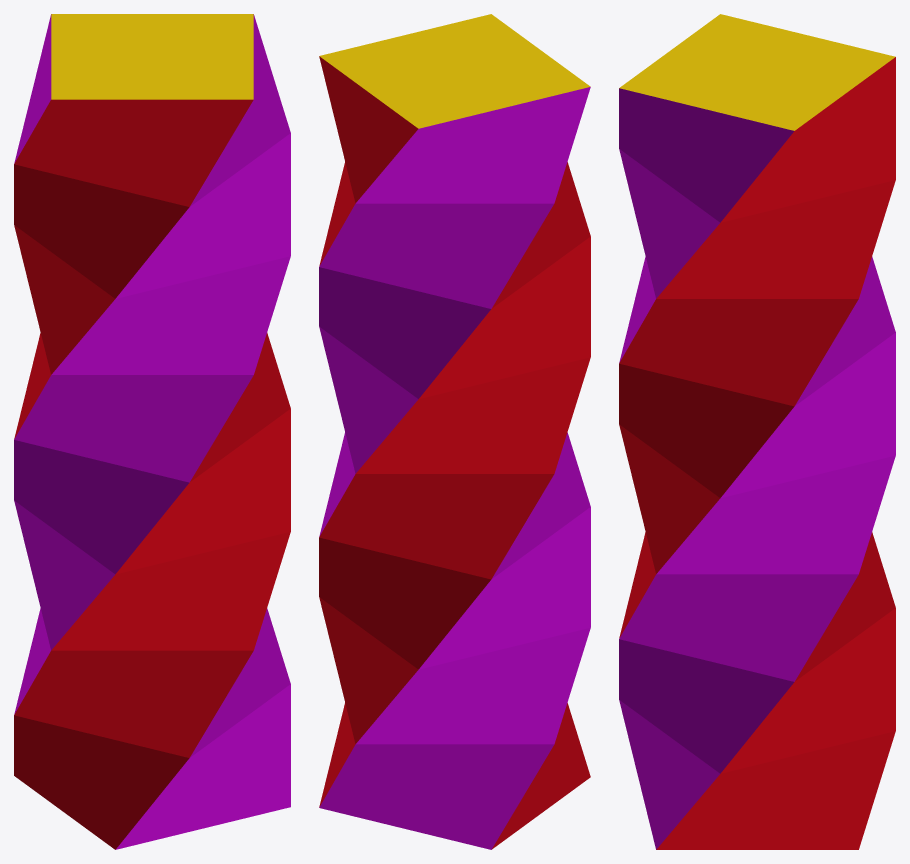
File: Pillar1.fbx
3 views of the same model, side by side, from view 1: azimuth 30°, elevation 25°; view 2: azimuth 150°, elevation 25°; view 3: azimuth 270°, elevation 25° (orthographic).
Parts seen in each view (by area): view 1: Cube; view 2: Cube; view 3: Cube.
Boxes of the visible parts, <box> form: Cube: <box>14,14,290,849</box>; Cube: <box>319,14,590,849</box>; Cube: <box>619,14,895,849</box>.
Bounding box in the file's own units: 273 × 800 × 273.
